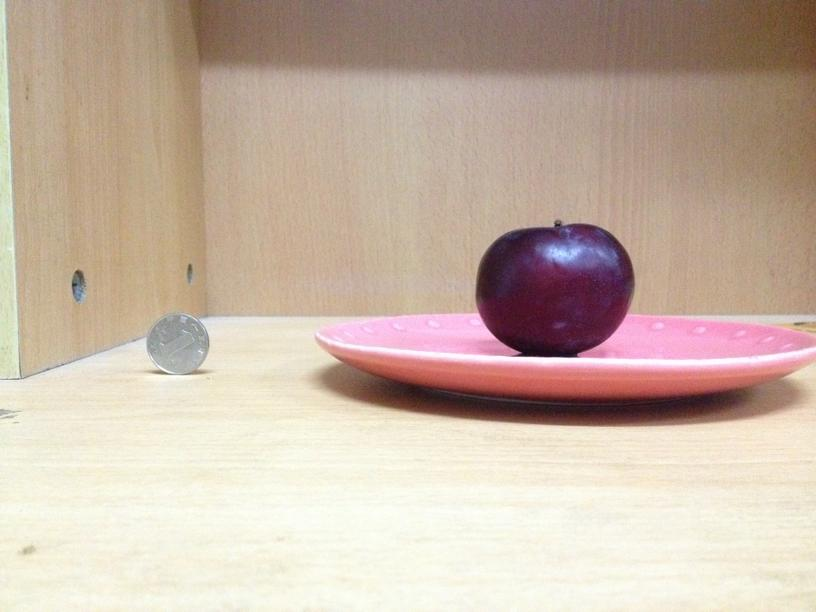coin: (145, 313, 208, 374)
plum: (476, 225, 634, 357)
